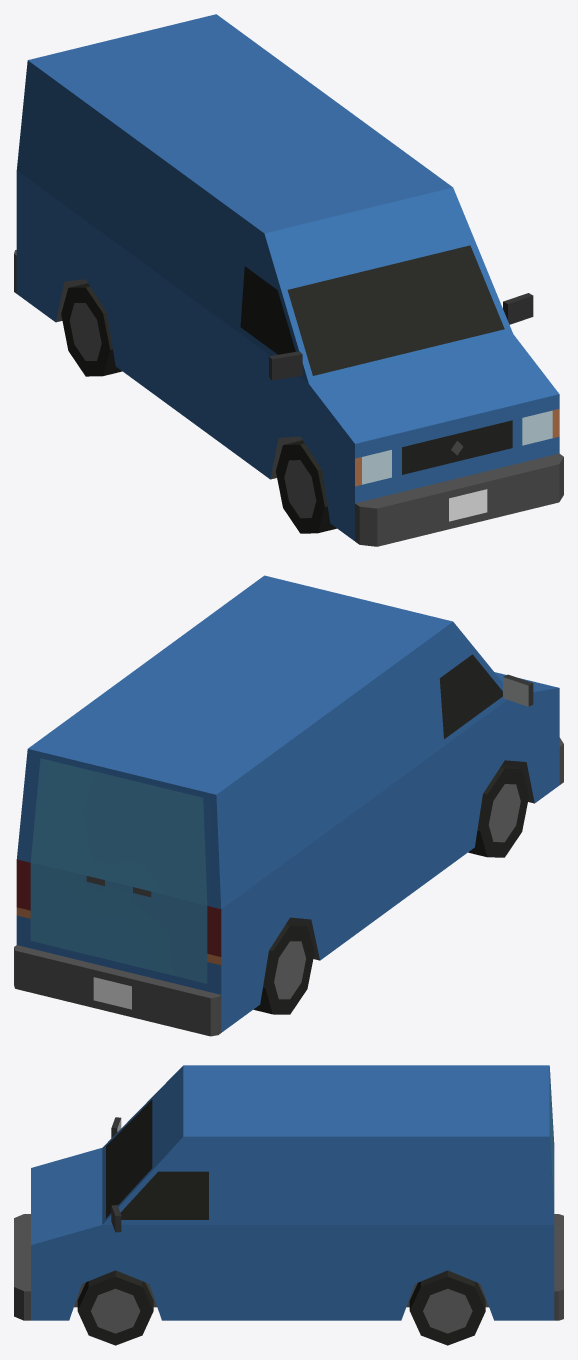
The model's file is Veh_Van_03_Blue.glb.
The picture shows the model from 3 angles, top to bottom: view 1: azimuth 30°, elevation 25°; view 2: azimuth 150°, elevation 25°; view 3: azimuth 270°, elevation 25°; orthographic projection. The views are drawn at different scales.
Visible parts, largest first — view 1: Van_03_Blue, Wheel_FR, Wheel_RR; view 2: Van_03_Blue, Wheel_FR, Wheel_RR; view 3: Van_03_Blue, Wheel_FL, Wheel_RL.
Part boxes in pixels (box(x1,y1,x2,y2)): Van_03_Blue: box(14, 14, 563, 546); Wheel_FR: box(276, 440, 336, 533); Wheel_RR: box(61, 283, 122, 376); Van_03_Blue: box(14, 575, 563, 1036); Wheel_FR: box(468, 764, 529, 857); Wheel_RR: box(253, 921, 314, 1014); Van_03_Blue: box(14, 1065, 563, 1320); Wheel_FL: box(77, 1270, 153, 1345); Wheel_RL: box(409, 1270, 485, 1345).
Size of the model in its own units: 1.41 by 1.37 by 3.31.
1 material, 1 textured.
